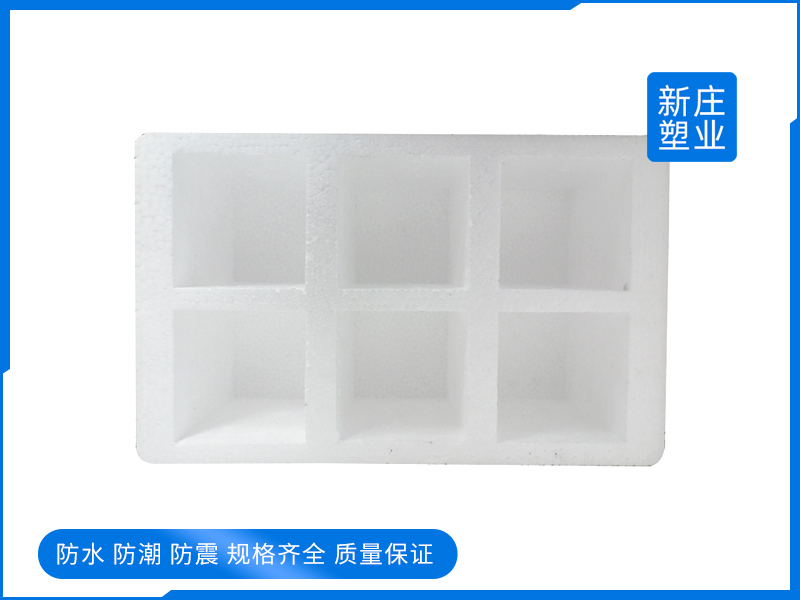泡沫箱: (135, 132, 669, 464)
